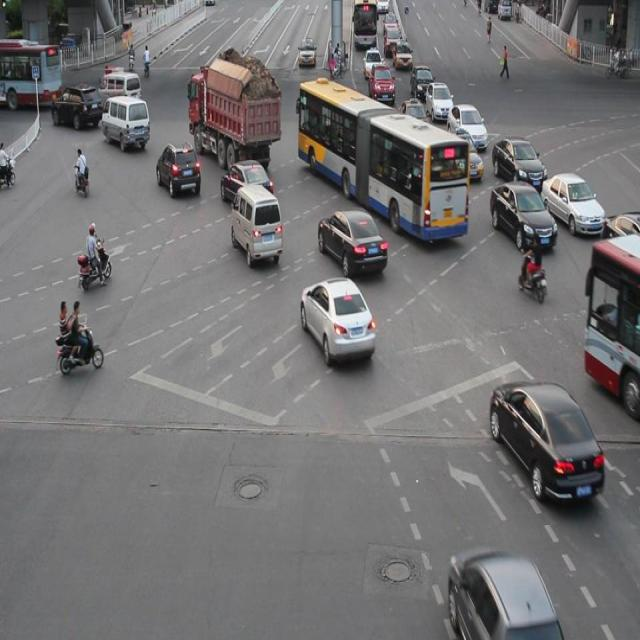bus: (188, 65, 280, 167)
car: (488, 380, 604, 502), (446, 545, 563, 640), (299, 275, 375, 364), (317, 206, 387, 276), (488, 181, 556, 249), (540, 172, 603, 236), (490, 136, 546, 191), (220, 157, 273, 212), (157, 142, 200, 196), (442, 129, 482, 180), (602, 211, 640, 263), (445, 103, 486, 148), (398, 99, 434, 143)
truck: (231, 183, 282, 263), (101, 96, 151, 151)
van: (297, 78, 468, 238), (584, 236, 640, 412)
